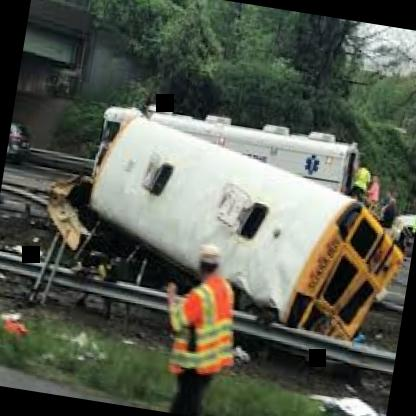accident: (69, 102, 416, 351)
